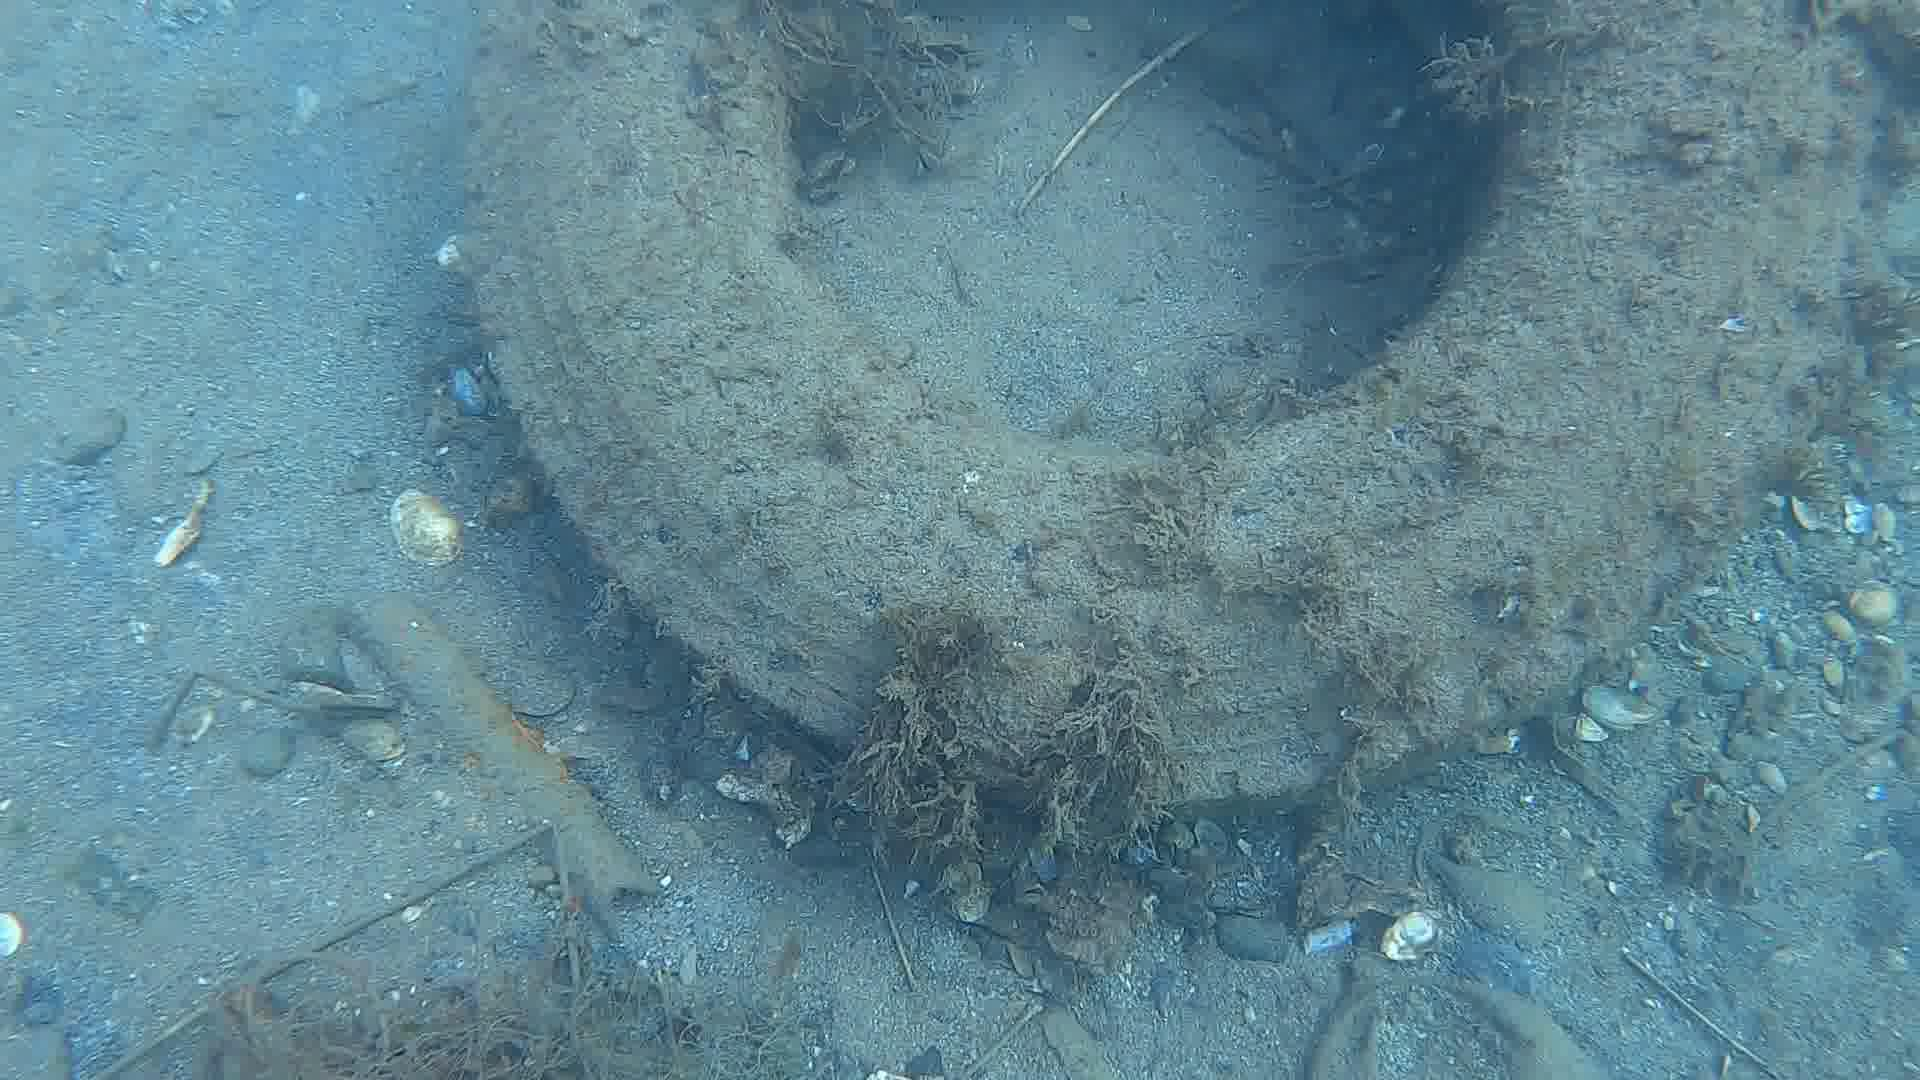tire: (458, 0, 1920, 836)
